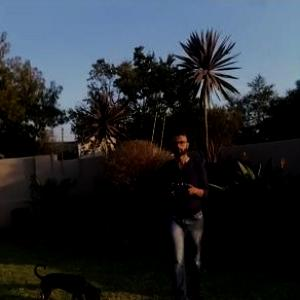follow: (158, 121, 213, 299)
null: (31, 259, 106, 299)
